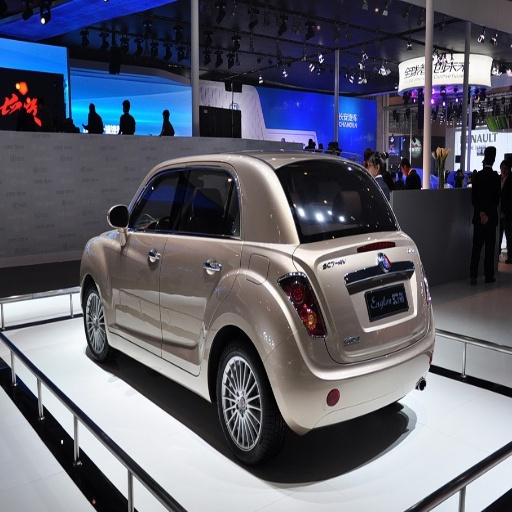back_bumper: (272, 314, 435, 428)
back_glass: (276, 162, 396, 240)
back_left_door: (160, 160, 243, 374)
tailgate: (331, 230, 423, 340)
trunk: (300, 240, 423, 360)
